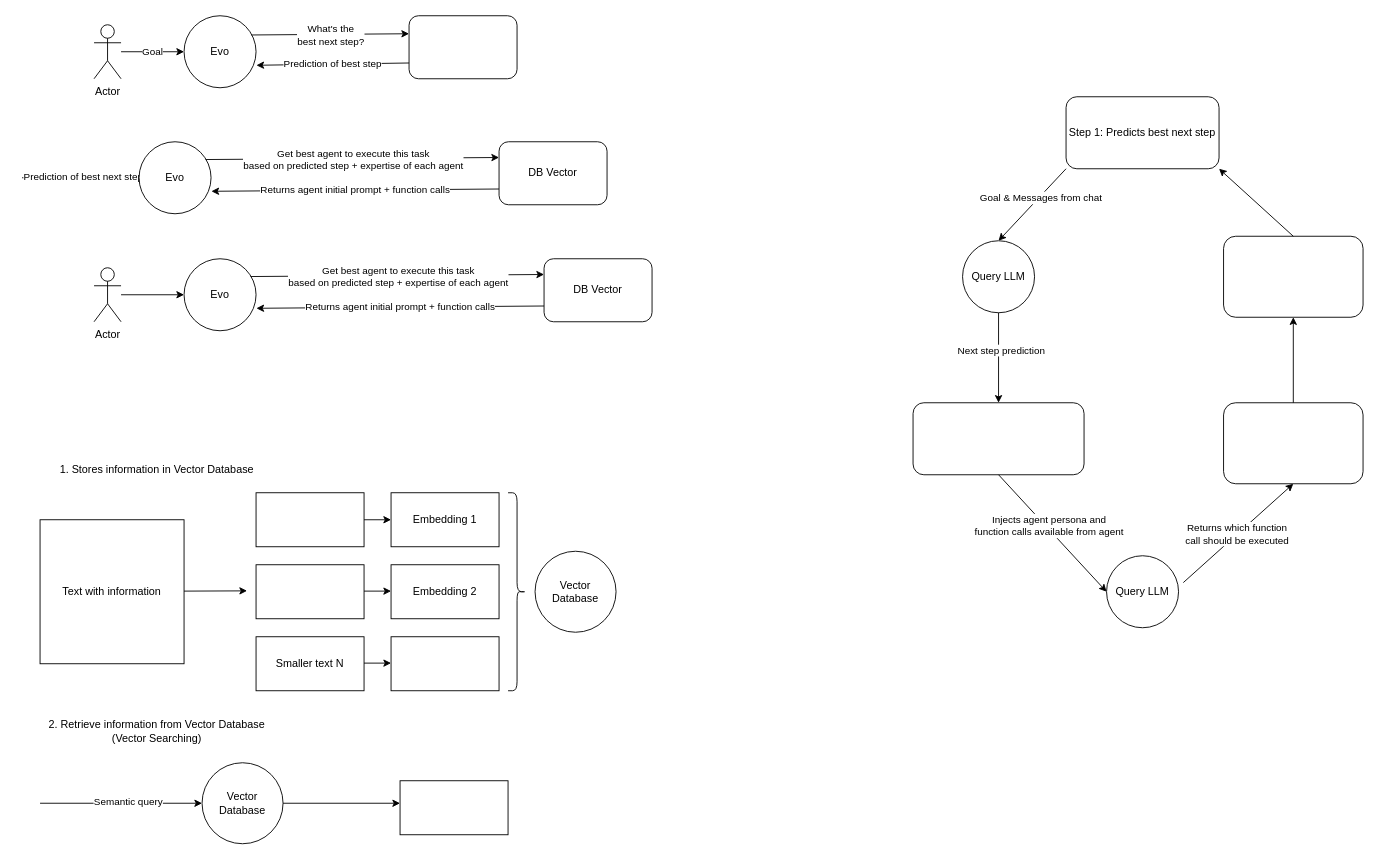
The diagram is 1379 pixels wide and 860 high, and some of its shapes have lost their labels. Here are the shapes that lost their labels. From the top down, the box of each, then its label:
(408, 15, 517, 79): LLM
(1223, 235, 1363, 317): Step 4: Store results from function call in context
(912, 402, 1084, 475): Step 2: Get best agent based on prediction
(1223, 402, 1363, 484): Step 3: Execute function call returned from LLM response
(255, 492, 364, 547): Smaller text 1
(255, 564, 364, 619): Smaller text 2
(390, 636, 499, 691): Embedding N
(399, 780, 508, 835): Relevant information
